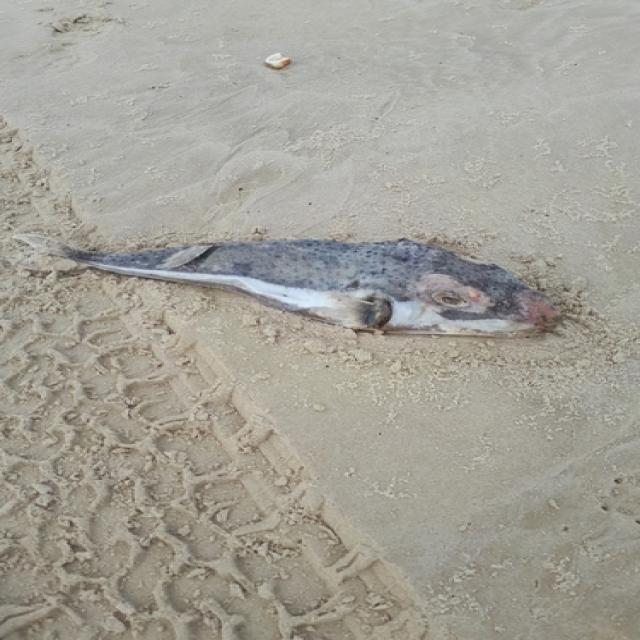Balik: (16, 235, 559, 336)
